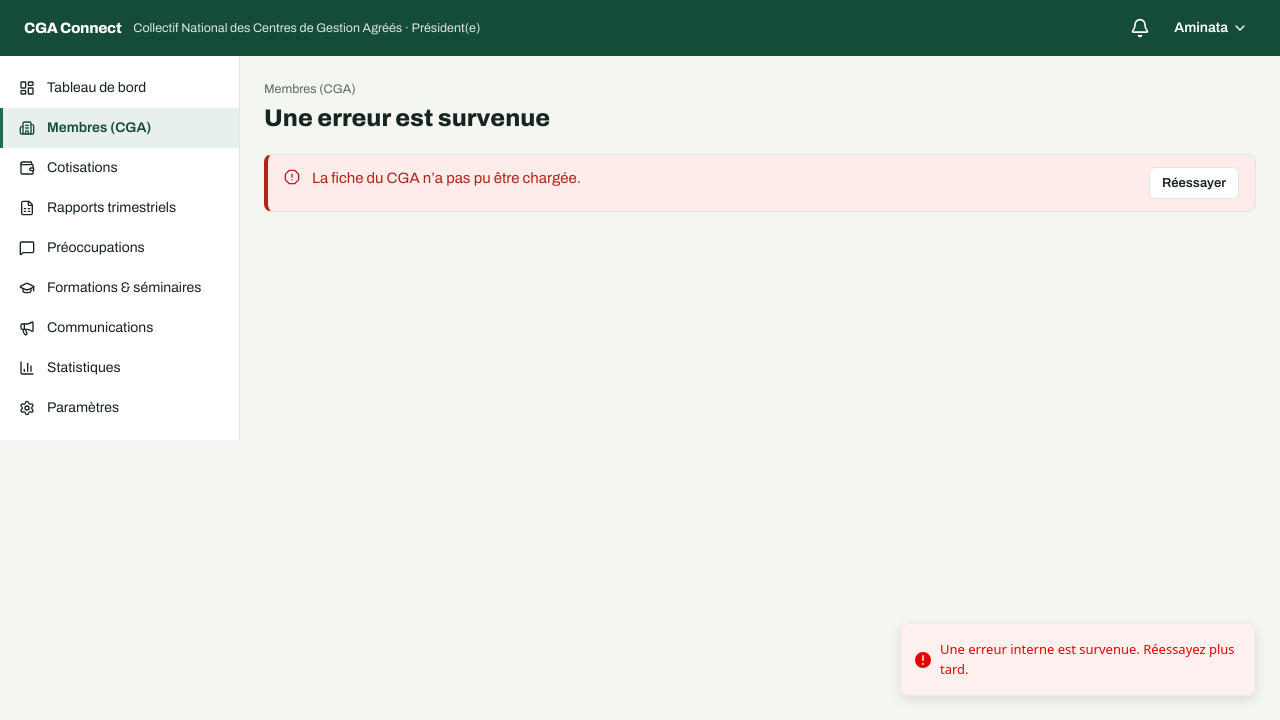
Test: /cncga/membres/:id · fiche d’un CGA (F-ORG-04) › erreur du serveur : bandeau et « Réessayer »
Expected: the text "La fiche du CGA n’a pas pu être chargée." is shown, 312,170 -> 581,186
Click the button "Réessayer" at [1194, 183], box 1149,167 -> 1239,199
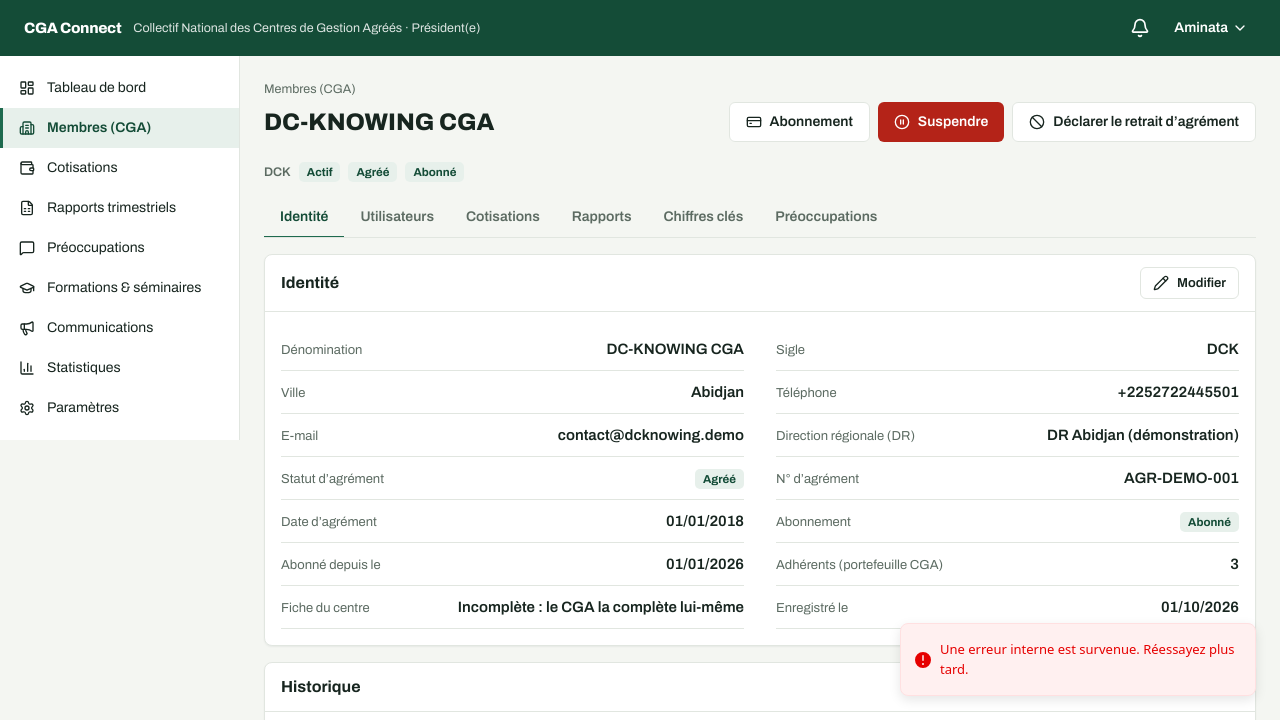
Expected: the heading "DC-KNOWING CGA" is shown, 264,106 -> 494,138
